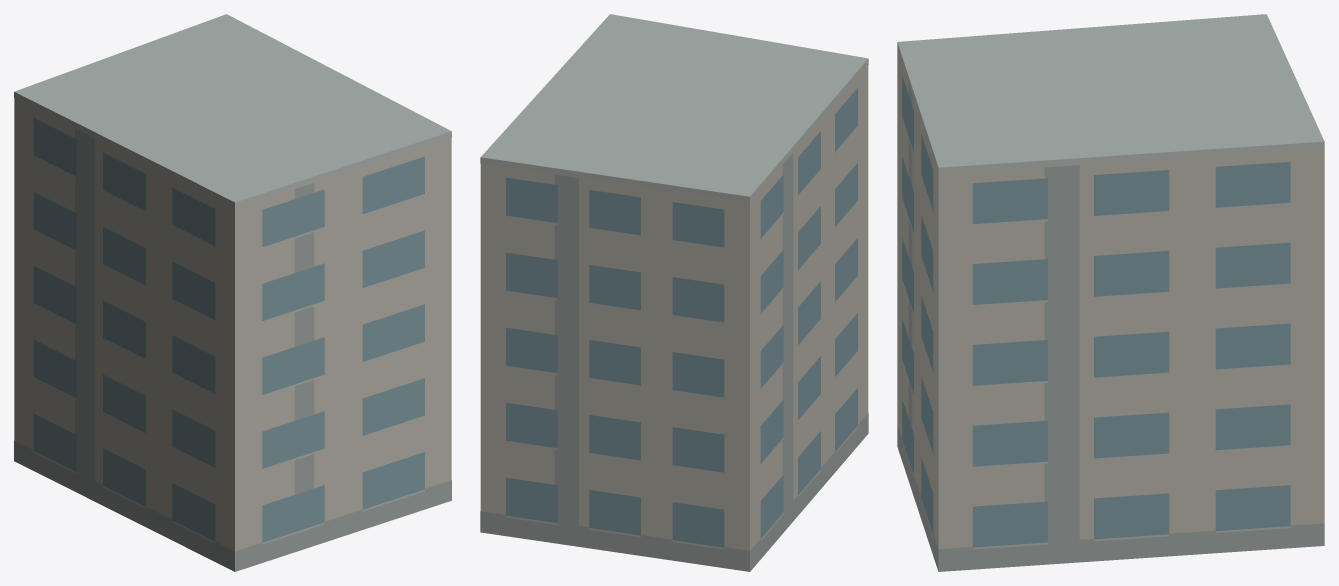
The model's file is survey-upis-32574339.glb.
3 renders of one model, left to right at view 1: azimuth 30°, elevation 25°; view 2: azimuth 150°, elevation 25°; view 3: azimuth 270°, elevation 25°, orthographic. The views are drawn at different scales.
Parts seen in each view (by area): view 1: survey-upis-32574339.tmp; view 2: survey-upis-32574339.tmp; view 3: survey-upis-32574339.tmp.
Part boxes in pixels (left/top/right/bottom): survey-upis-32574339.tmp: left=14, top=14, right=451, bottom=571; survey-upis-32574339.tmp: left=480, top=14, right=868, bottom=571; survey-upis-32574339.tmp: left=897, top=14, right=1324, bottom=571.
Size of the model in its own units: 11.67 by 14.3 by 13.71.
